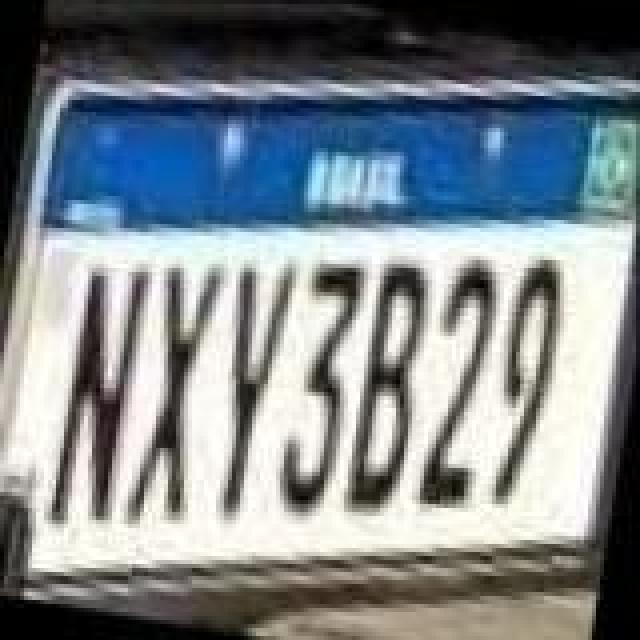2: (410, 250, 514, 514)
3: (266, 248, 370, 524)
9: (476, 246, 576, 514)
B: (338, 250, 442, 522)
N: (38, 252, 150, 532)
X: (120, 250, 228, 538)
Y: (194, 244, 298, 528)
